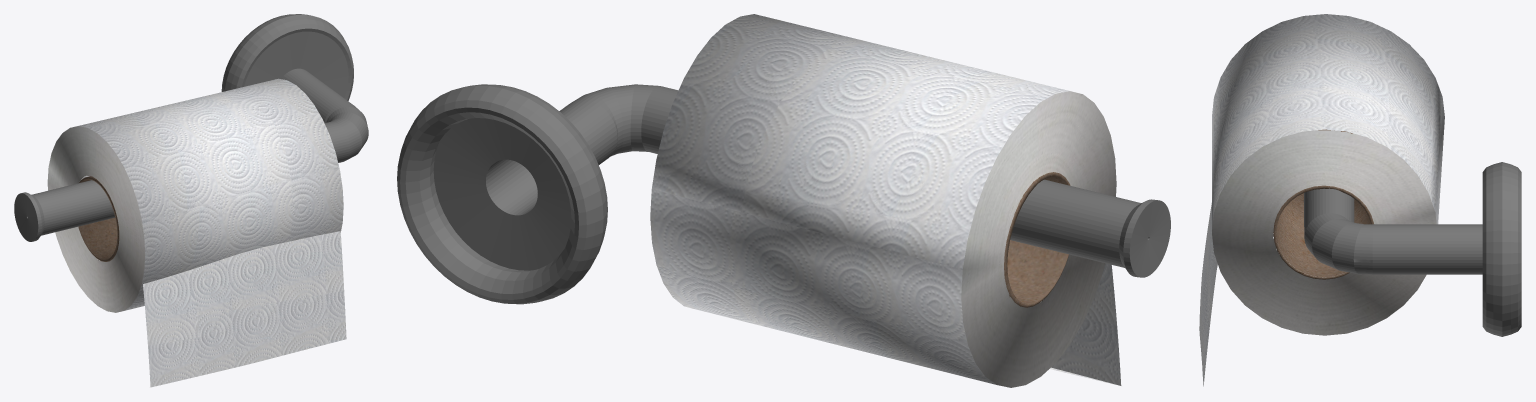
Rendered from Toilet Paper.fbx.
The picture shows the model from 3 angles, left to right: view 1: azimuth 30°, elevation 25°; view 2: azimuth 150°, elevation 25°; view 3: azimuth 270°, elevation 25°; orthographic projection. The views are drawn at different scales.
Visible parts, largest first — view 1: ToiletRoll.001, ToiletRoll.002, ToiletRoll; view 2: ToiletRoll.001, ToiletRoll, ToiletRoll.002; view 3: ToiletRoll.001, ToiletRoll, ToiletRoll.002.
Part boxes in pixels (bbox=[...]): ToiletRoll.001: bbox=[47, 78, 343, 312]; ToiletRoll.002: bbox=[143, 231, 346, 387]; ToiletRoll: bbox=[14, 14, 368, 241]; ToiletRoll.001: bbox=[650, 14, 1116, 387]; ToiletRoll: bbox=[397, 84, 1170, 304]; ToiletRoll.002: bbox=[1050, 263, 1121, 386]; ToiletRoll.001: bbox=[1212, 14, 1444, 335]; ToiletRoll: bbox=[1304, 162, 1521, 336]; ToiletRoll.002: bbox=[1199, 203, 1217, 386].
Bounding box in the file's own units: 43.22 × 22.47 × 25.36.
Materials: 4 (4 with a texture image).
